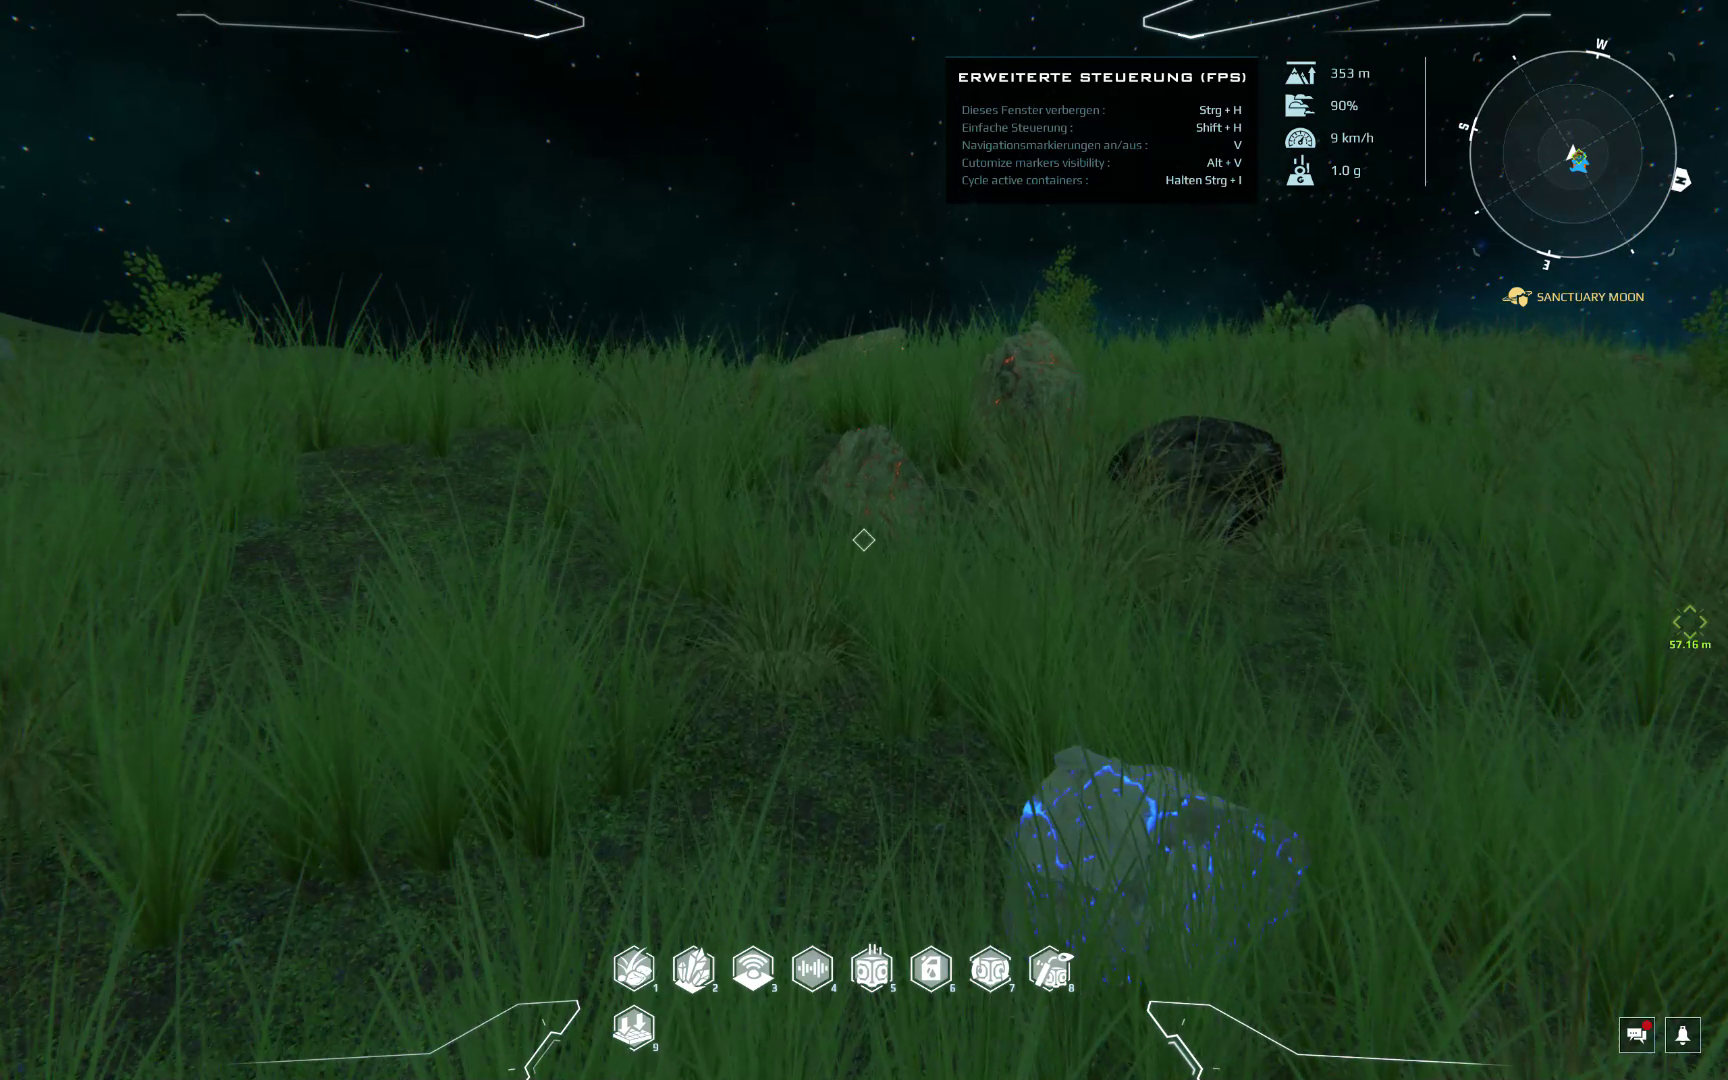Ore: (1004, 743, 1310, 969), (1106, 416, 1286, 541), (972, 321, 1079, 470), (811, 424, 936, 542), (785, 322, 908, 379)
